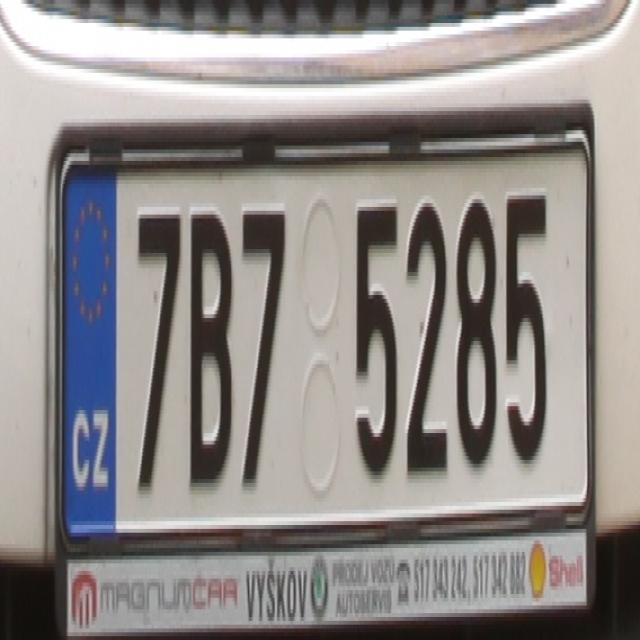2: (401, 191, 450, 483)
5: (503, 184, 552, 464), (354, 195, 393, 487)
7: (134, 207, 180, 483), (241, 199, 285, 487)
8: (454, 187, 497, 463)
B: (185, 203, 234, 483)
